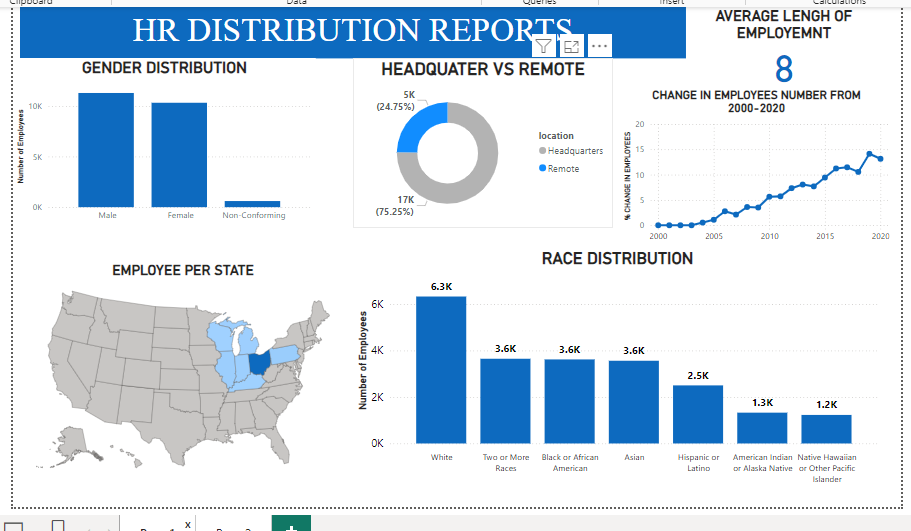

Layout of this report page (visuals, bound fields, positions):
{"tool":"powerbi","page":{"name":"Page 1","canvas":[1280,720],"ordinal":0},"visuals":[{"type":"textbox","box":[10.1,0,959.2,73.9],"z":0},{"type":"card","title":"AVERAGE LENGH OF EMPLOYEMNT","fields":{"Values":["Sum(avg_lengh_empls.avg_lengh_empls)"]},"box":[969.1,0,282.2,116.6],"z":1000},{"type":"donutChart","title":"HEADQUATER VS REMOTE","fields":{"Y":["Sum(LOCATION.count)"],"Category":["LOCATION.location"]},"box":[489.6,73.4,374.4,244.8],"z":2000},{"type":"clusteredColumnChart","title":"GENDER DISTRIBUTION","fields":{"Y":["Sum(GENDER.count)"],"Category":["GENDER.gender"]},"box":[0,73.4,436.3,244.8],"z":3000},{"type":"lineChart","title":"CHANGE IN EMPLOYEES NUMBER FROM 2000-2020","fields":{"Category":["employee_change.year"],"Y":["Sum(employee_change.net_change_percent)"]},"box":[874.1,116.6,393.1,231.8],"z":4000},{"type":"shapeMap","title":"EMPLOYEE PER STATE","fields":{"Value":["Sum(LOCATION_STATE.count)"],"Category":["LOCATION_STATE.location_state"]},"box":[0,367.2,489.6,315.4],"z":5000},{"type":"clusteredColumnChart","title":"RACE DISTRIBUTION","fields":{"Category":["RACE.race"],"Y":["Sum(RACE.count)"]},"box":[489.6,348.5,761.8,347],"z":6000}]}

Visuals, with their boxes on the page's 1280x720 design canvas (x1, y1, x2, y2). These are canvas units, not pixel positions in the 911x531 screenshot, which may show the page scaled, cropped or inside an application window:
textbox: detection(10, 0, 969, 74)
"AVERAGE LENGH OF EMPLOYEMNT" card: detection(969, 0, 1251, 117)
"HEADQUATER VS REMOTE" donutChart: detection(490, 73, 864, 318)
"GENDER DISTRIBUTION" clusteredColumnChart: detection(0, 73, 436, 318)
"CHANGE IN EMPLOYEES NUMBER FROM 2000-2020" lineChart: detection(874, 117, 1267, 348)
"EMPLOYEE PER STATE" shapeMap: detection(0, 367, 490, 683)
"RACE DISTRIBUTION" clusteredColumnChart: detection(490, 348, 1251, 696)
